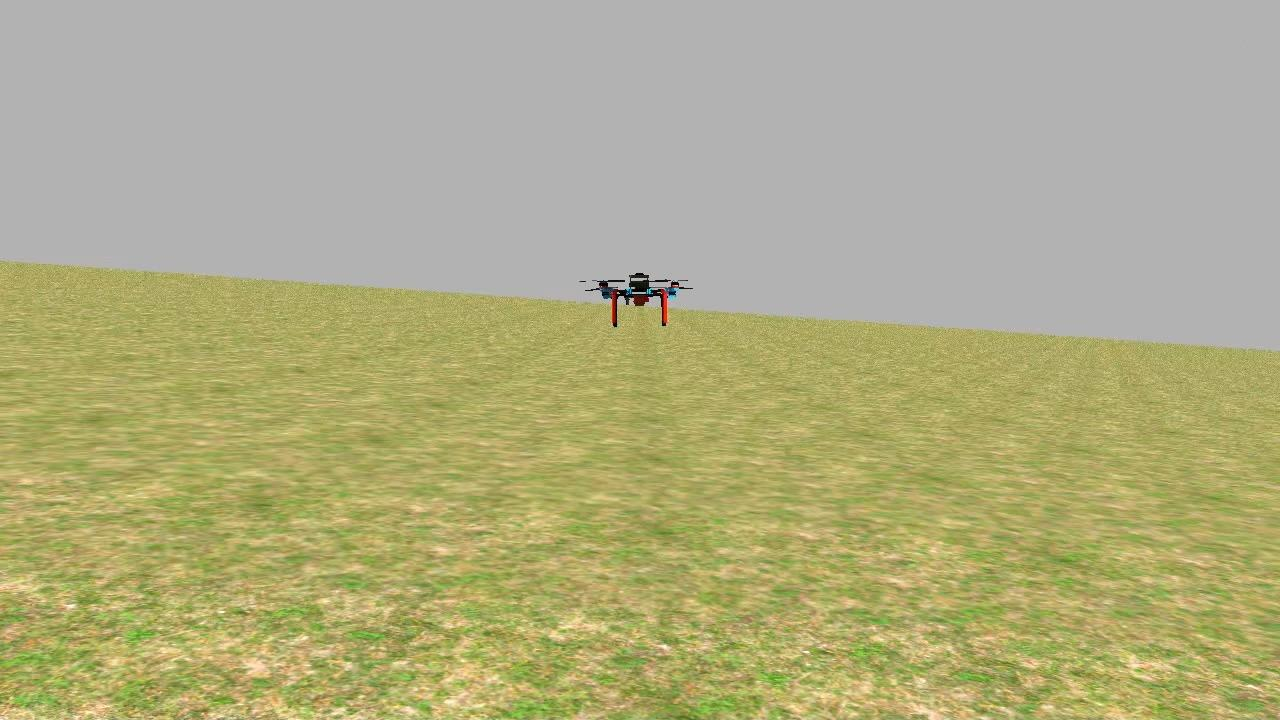UAV: (581, 260, 693, 335)
